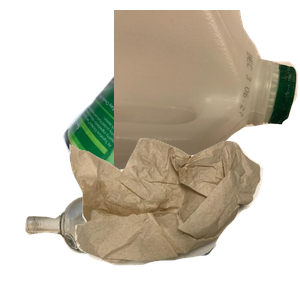glass: (22, 192, 234, 300)
metal: (60, 23, 300, 203)
plastic: (114, 10, 300, 179)
trash: (67, 136, 300, 300)
